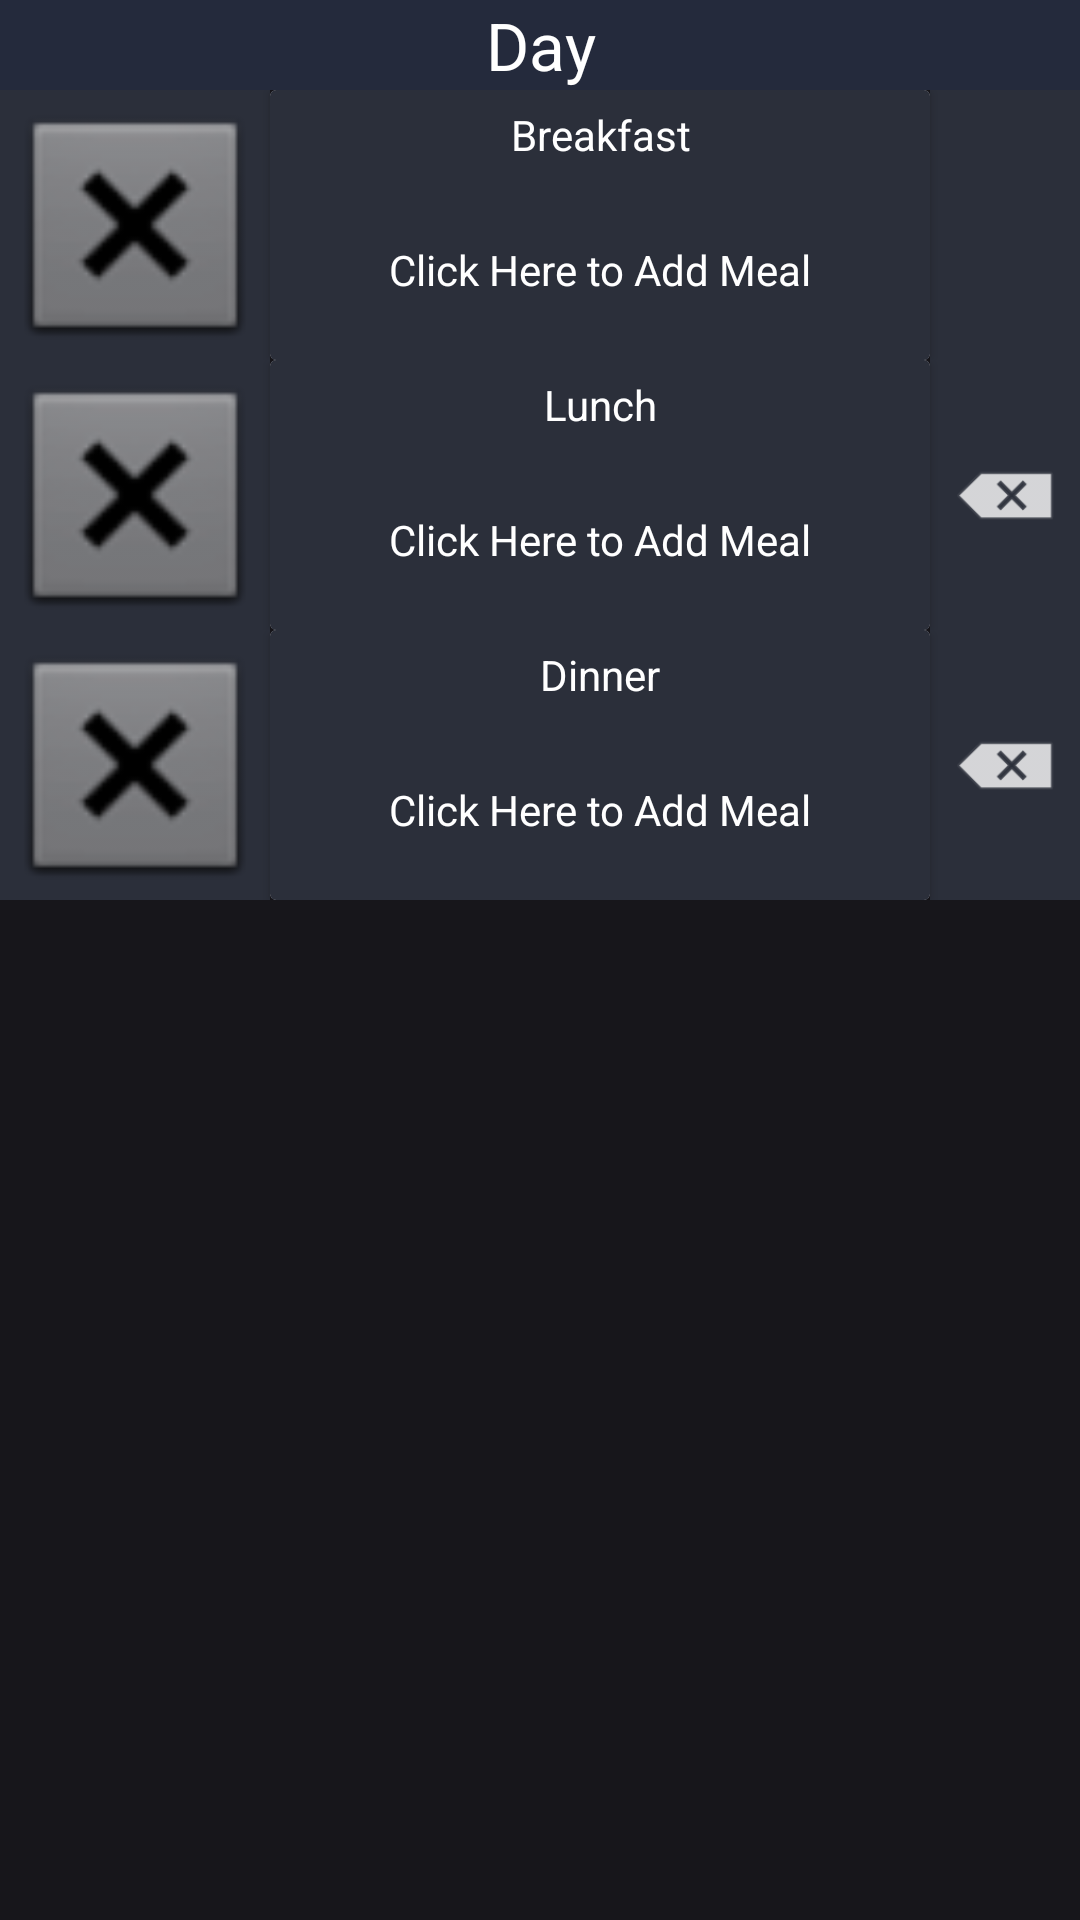

Icon bounding boxes for this 1080 × 1920 phone screenshot, format box=[x1, y1, x2, y2]:
delete: box=[959, 473, 1052, 519], box=[959, 743, 1052, 789]
